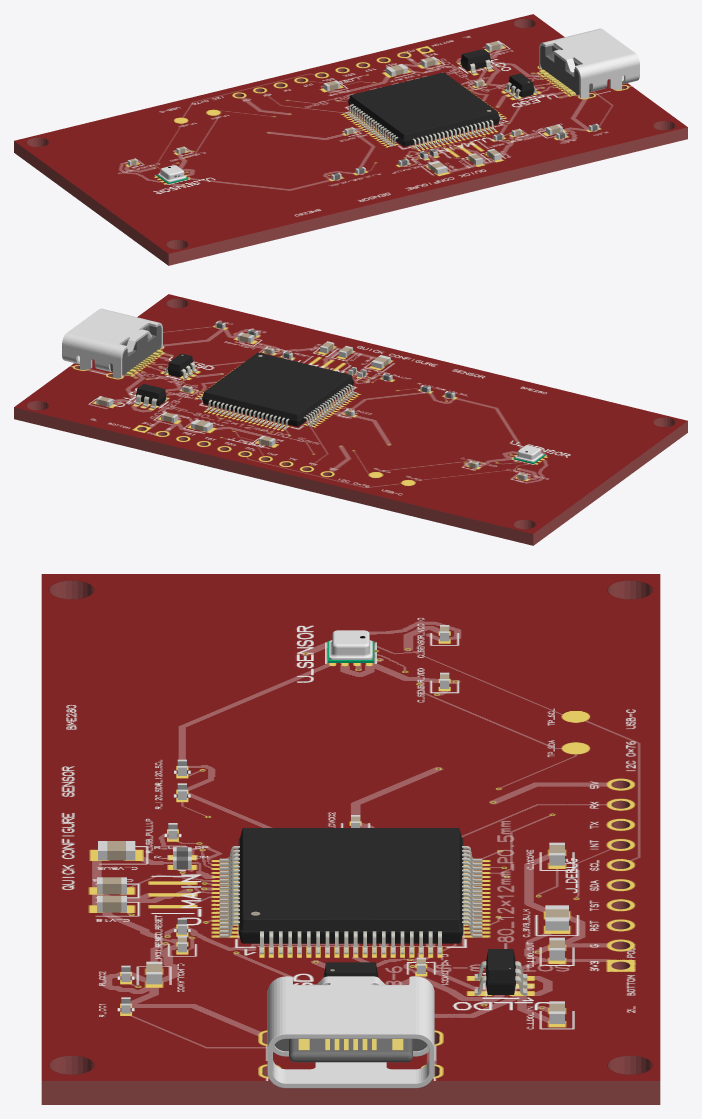
3 renders of one model, top to bottom at view 1: azimuth 30°, elevation 25°; view 2: azimuth 150°, elevation 25°; view 3: azimuth 270°, elevation 25°, orthographic. The views are drawn at different scales.
Visible parts, largest first — view 1: Box0, U_MAIN, J_USB, U_LDO, U_ESD, U_SENSOR; view 2: Box0, U_MAIN, J_USB, U_LDO, U_ESD, U_SENSOR; view 3: Box0, U_MAIN, J_USB, U_LDO, U_SENSOR, U_ESD.
Boxes of the visible parts, left/top/right/bottom form: Box0: left=14, top=14, right=687, bottom=265; U_MAIN: left=344, top=72, right=503, bottom=149; J_USB: left=539, top=28, right=639, bottom=98; U_LDO: left=459, top=49, right=491, bottom=73; U_ESD: left=504, top=73, right=538, bottom=99; U_SENSOR: left=156, top=165, right=188, bottom=184; Box0: left=14, top=294, right=687, bottom=545; U_MAIN: left=198, top=352, right=357, bottom=429; J_USB: left=62, top=308, right=162, bottom=378; U_LDO: left=135, top=384, right=167, bottom=408; U_ESD: left=163, top=353, right=197, bottom=379; U_SENSOR: left=513, top=445, right=545, bottom=464; Box0: left=41, top=574, right=660, bottom=1104; U_MAIN: left=219, top=828, right=482, bottom=954; J_USB: left=267, top=976, right=434, bottom=1088; U_LDO: left=474, top=949, right=527, bottom=995; U_SENSOR: left=327, top=630, right=374, bottom=662; U_ESD: left=323, top=962, right=378, bottom=977.
Bounding box in the file's own units: 65.04 × 4.65 × 33.
Materials: 16 (2 with a texture image).
